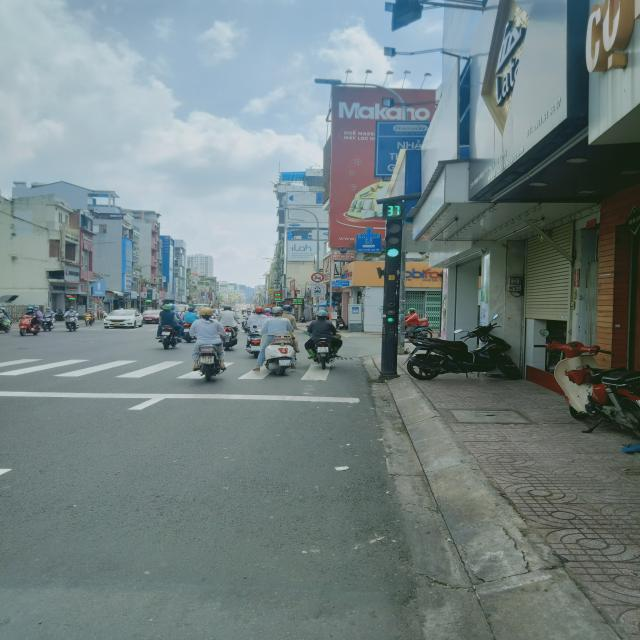Green: (378, 218, 403, 264), (384, 293, 404, 329)
